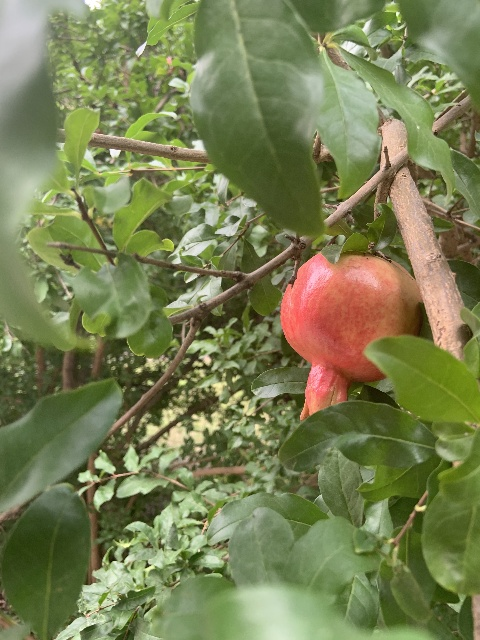ripe: (280, 251, 423, 421)
